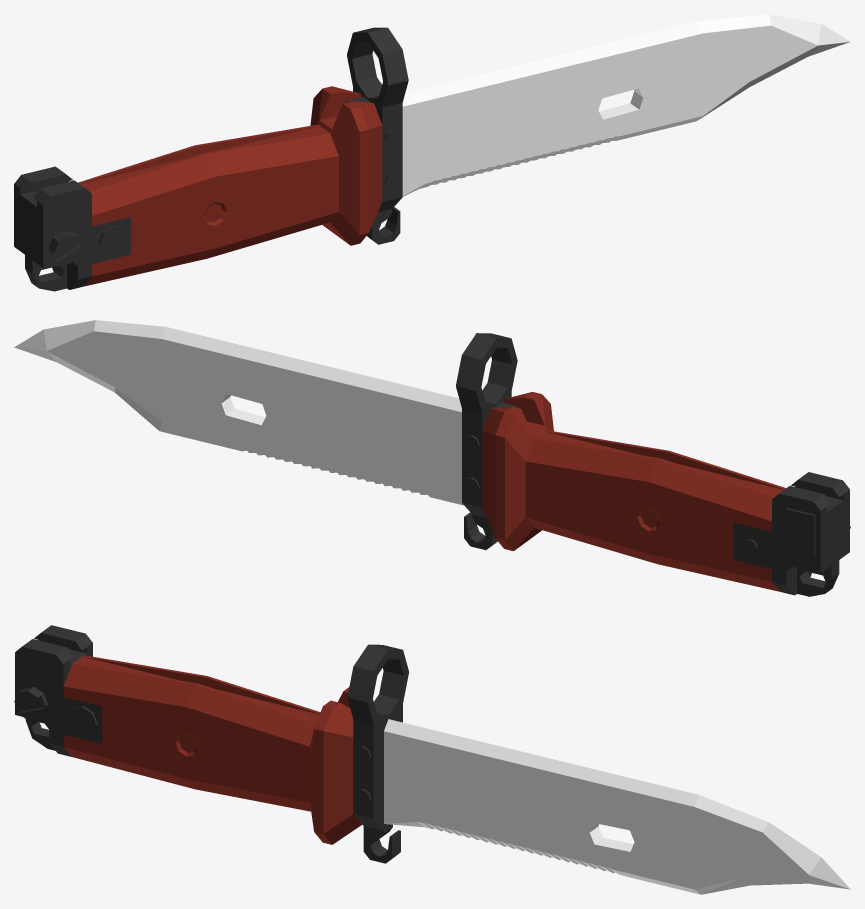
Rendered from 6x4_bayonet.glb.
The picture shows the model from 3 angles, top to bottom: view 1: azimuth 30°, elevation 25°; view 2: azimuth 150°, elevation 25°; view 3: azimuth 330°, elevation 25°; orthographic projection.
Visible parts, largest first — view 1: Cube.003_0; view 2: Cube.003_0; view 3: Cube.003_0.
Part boxes in pixels (left/top/right/bottom): Cube.003_0: left=14, top=14, right=850, bottom=291; Cube.003_0: left=14, top=320, right=850, bottom=596; Cube.003_0: left=14, top=625, right=850, bottom=894.
Size of the model in its own units: 2.08 by 0.5102 by 0.202.
